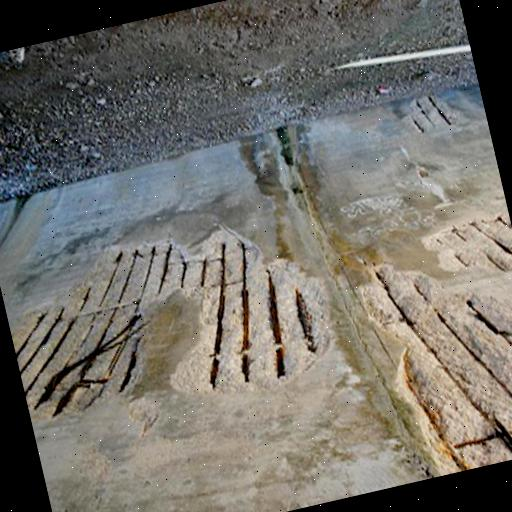spalling: (11, 228, 330, 419), (356, 262, 512, 476), (420, 213, 512, 270), (400, 93, 457, 132)
